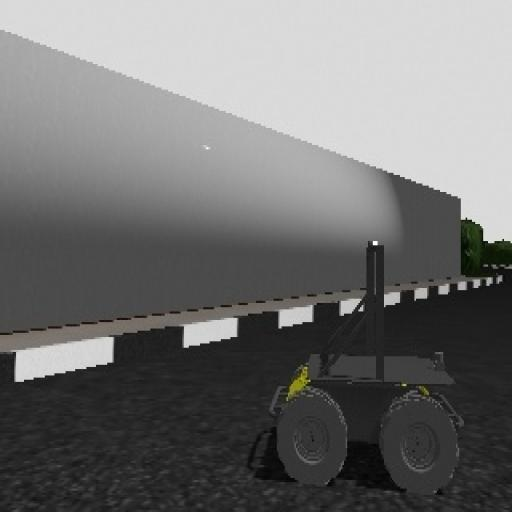huskya200: (234, 225, 485, 497)
